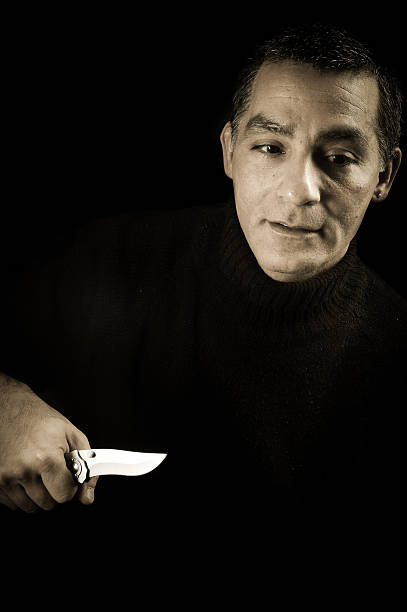knife: (65, 444, 171, 486)
